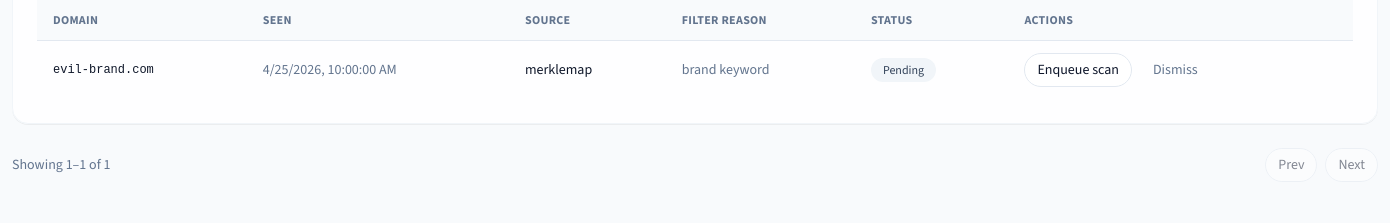
Scenario: DiscoveriesExplorer › enqueue button surfaces 409 inline when API returns 'Discovery already enqueued'
Click the button "Enqueue scan".
click(1078, 70)  # box [1024,53,1132,87]
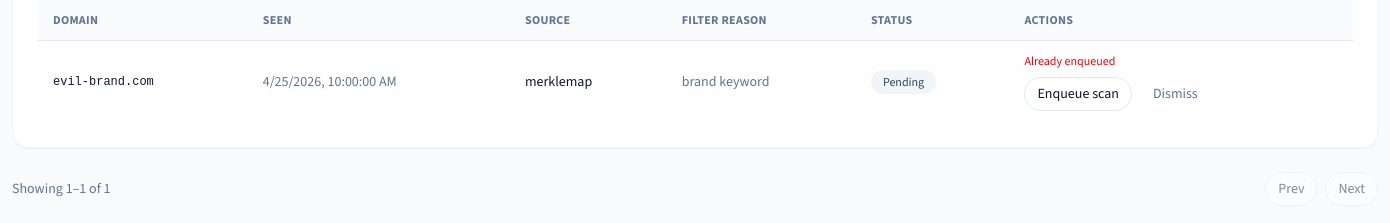
Expected: the text "Already enqueued" is shown, [1024,53,1115,69]
